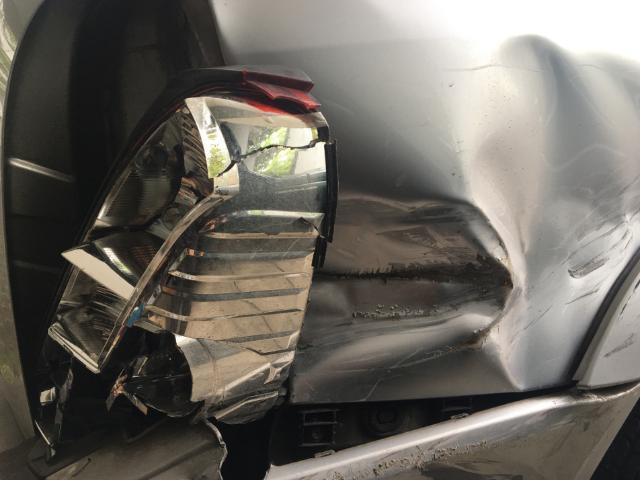Fender: (328, 0, 640, 480)
Light: (32, 74, 315, 426)
